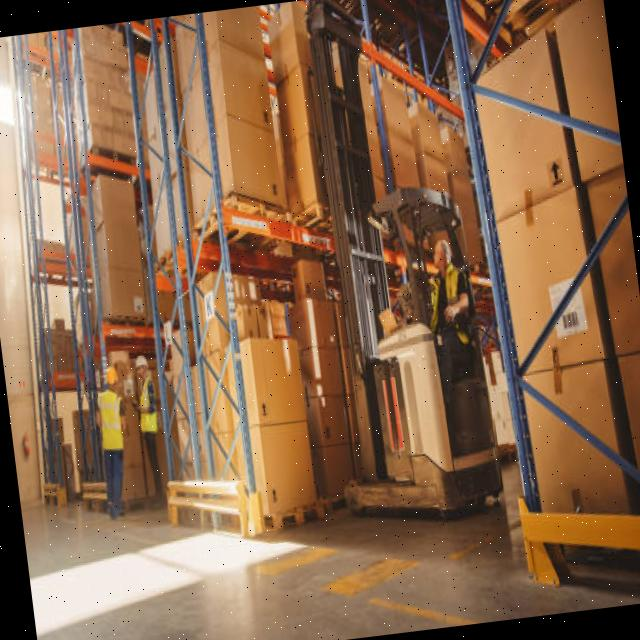Wooden-Pallets: (275, 499, 326, 538)
